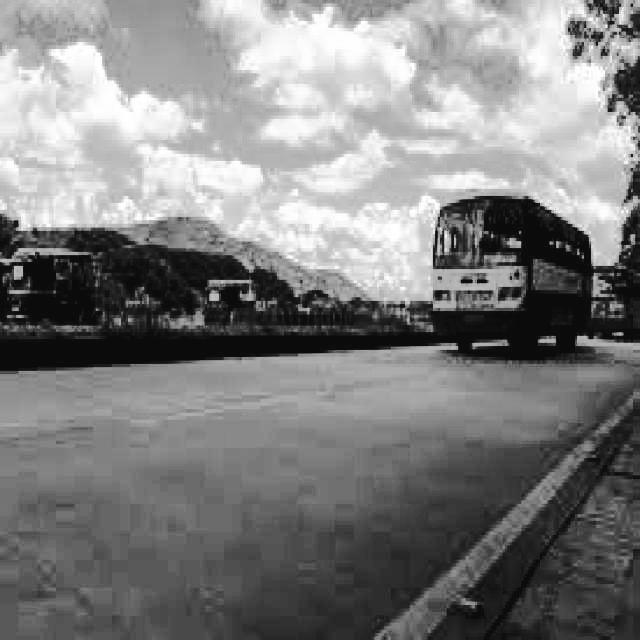Bus: (429, 177, 600, 359), (594, 255, 639, 349)
